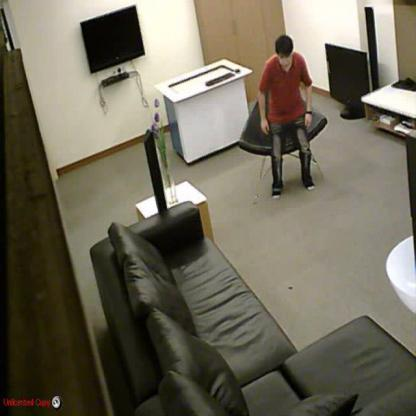Person: (256, 34, 315, 197)
